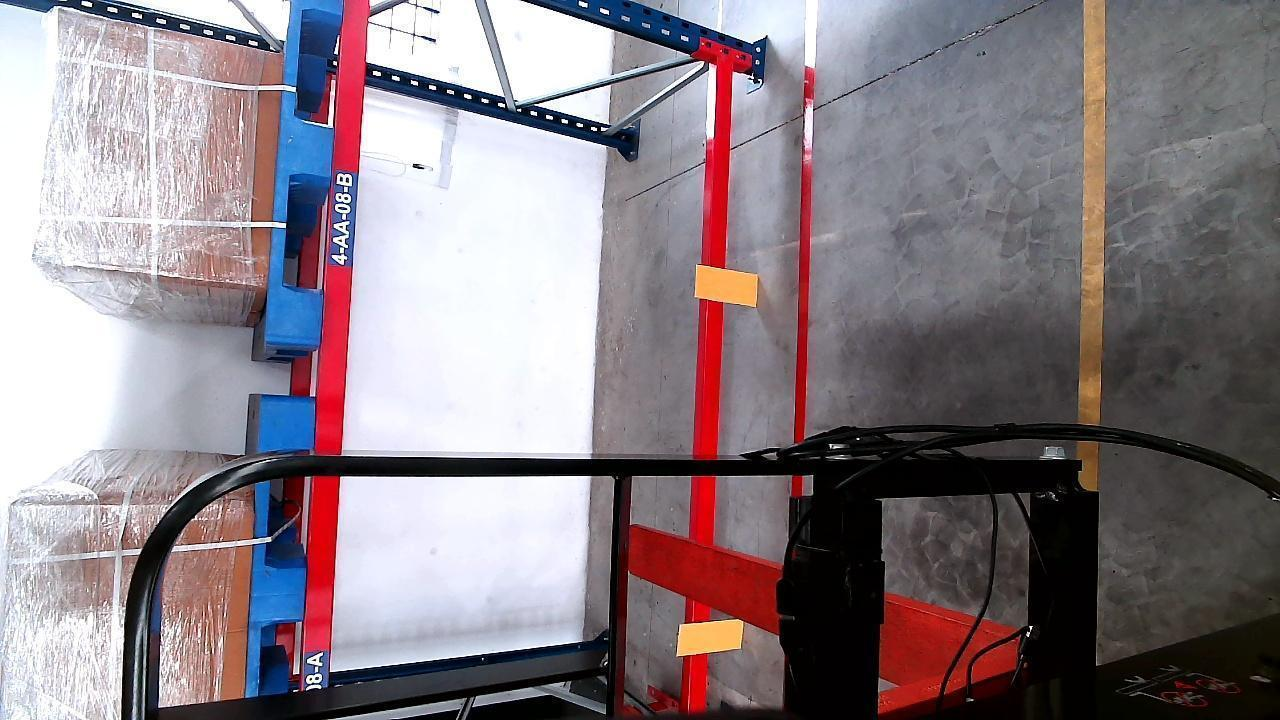red_line: (794, 6, 818, 443)
yellow_line: (1079, 0, 1107, 432)
